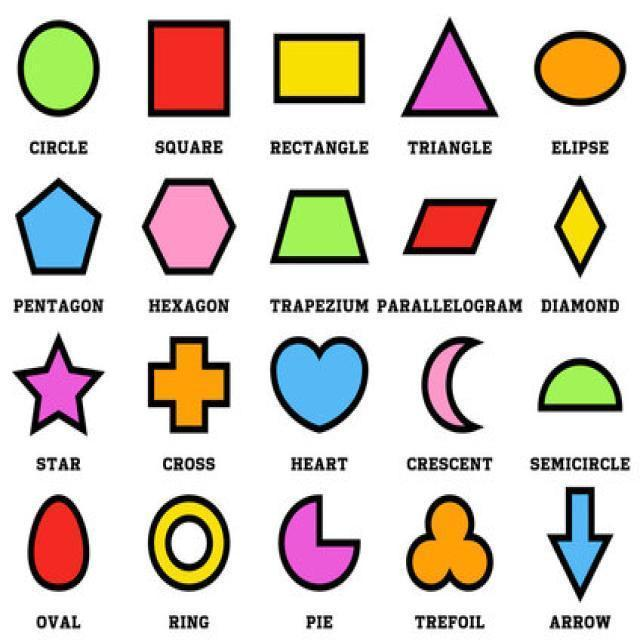circle: (6, 13, 114, 134)
cross: (136, 329, 246, 445)
square: (138, 16, 248, 128)
triangle: (392, 16, 524, 140)
